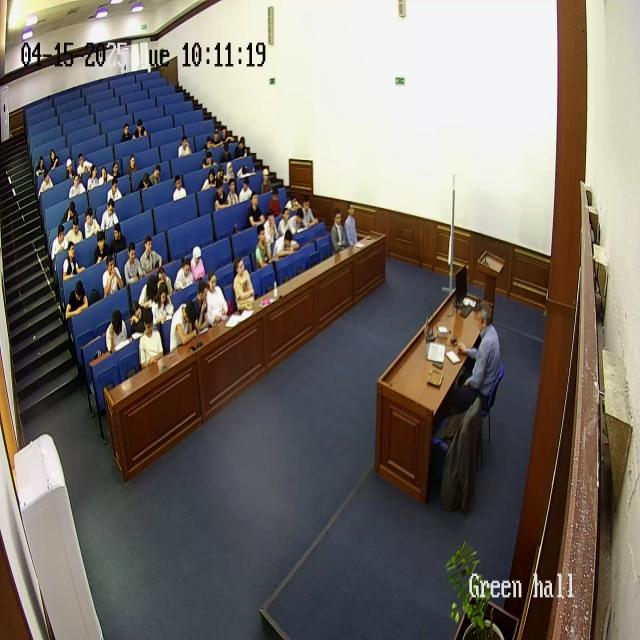person: (453, 302, 503, 415), (137, 309, 165, 367), (169, 300, 197, 350), (205, 270, 230, 326), (232, 258, 256, 314), (105, 310, 130, 356), (192, 280, 212, 333), (64, 278, 88, 322), (273, 220, 299, 260), (103, 253, 125, 299), (124, 241, 146, 285), (138, 274, 162, 314), (140, 234, 162, 276), (152, 284, 174, 326), (62, 241, 84, 283), (329, 207, 349, 253), (173, 255, 195, 292), (254, 225, 272, 268), (247, 191, 266, 231), (343, 200, 359, 247), (51, 223, 69, 264), (100, 197, 120, 232), (265, 203, 281, 244), (110, 221, 128, 257), (299, 197, 318, 230), (66, 213, 84, 247), (82, 207, 100, 240), (190, 245, 206, 282), (37, 157, 54, 191), (94, 229, 110, 264), (282, 205, 298, 239), (214, 178, 230, 212), (106, 172, 123, 204), (69, 169, 86, 199), (172, 172, 188, 201), (268, 186, 282, 218), (226, 177, 240, 207), (260, 167, 274, 196), (86, 165, 100, 193), (238, 177, 253, 203), (130, 116, 146, 140), (222, 160, 238, 183), (202, 165, 216, 191), (236, 130, 249, 157), (140, 167, 154, 192), (76, 152, 90, 177), (237, 154, 252, 177), (64, 158, 77, 184), (48, 148, 61, 174), (178, 134, 192, 158), (149, 162, 161, 188), (127, 153, 139, 179), (110, 154, 122, 180), (98, 164, 110, 190), (201, 150, 215, 172), (218, 124, 230, 148), (119, 122, 131, 142), (211, 128, 219, 147), (203, 132, 210, 152)
